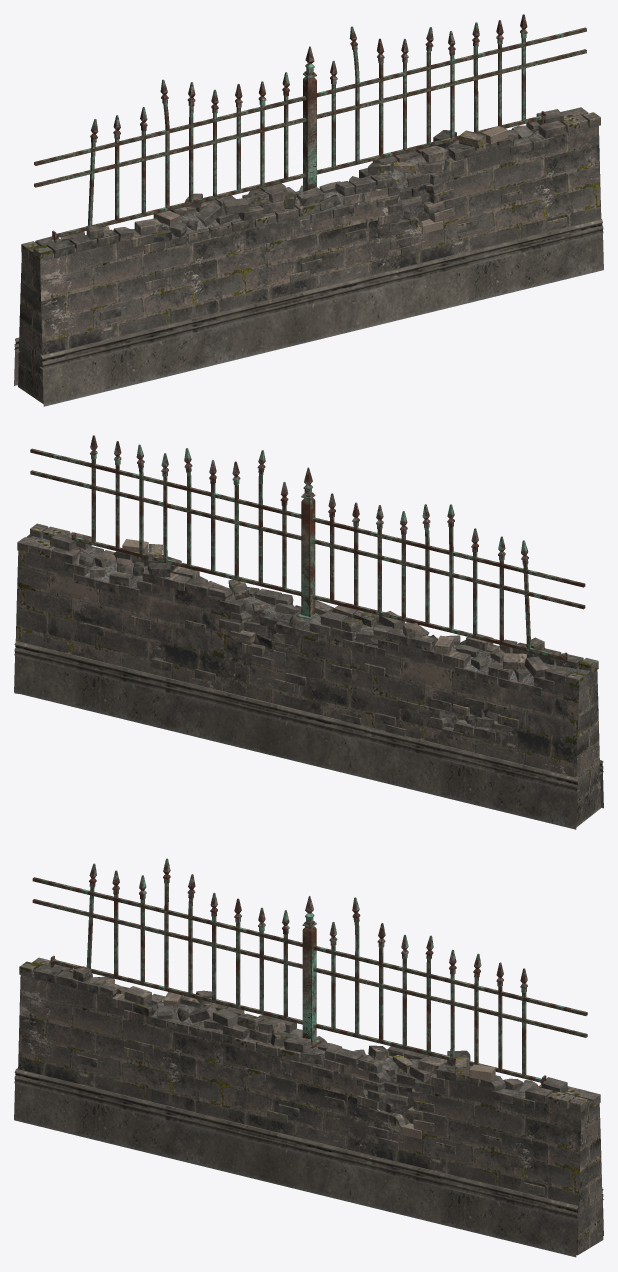
The model's file is LobbyFence.fbx.
3 renders of one model, top to bottom at view 1: azimuth 30°, elevation 25°; view 2: azimuth 150°, elevation 25°; view 3: azimuth 330°, elevation 25°, orthographic.
Visible parts, largest first — view 1: SM_Asy_Fence01.mo; view 2: SM_Asy_Fence01.mo; view 3: SM_Asy_Fence01.mo.
Boxes of the visible parts, left/top/right/bottom form: SM_Asy_Fence01.mo: left=14, top=14, right=603, bottom=406; SM_Asy_Fence01.mo: left=14, top=435, right=603, bottom=829; SM_Asy_Fence01.mo: left=14, top=858, right=603, bottom=1257.
Bounding box in the file's own units: 822 × 407 × 72.55.
